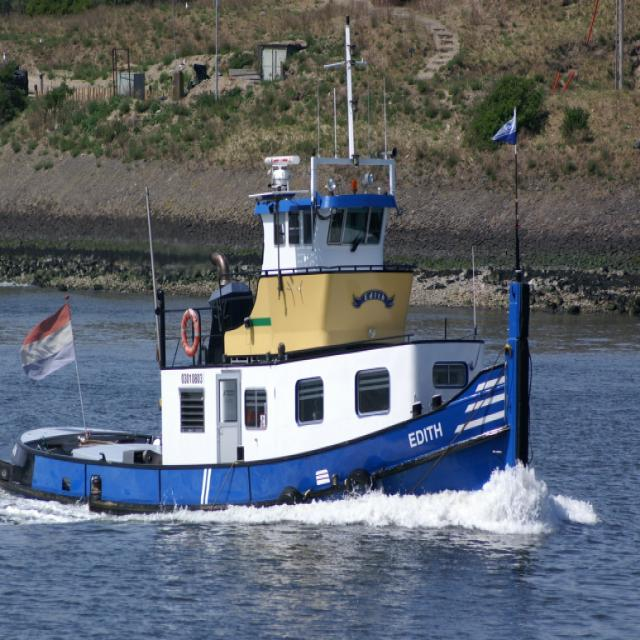tugboat: (1, 149, 538, 534)
